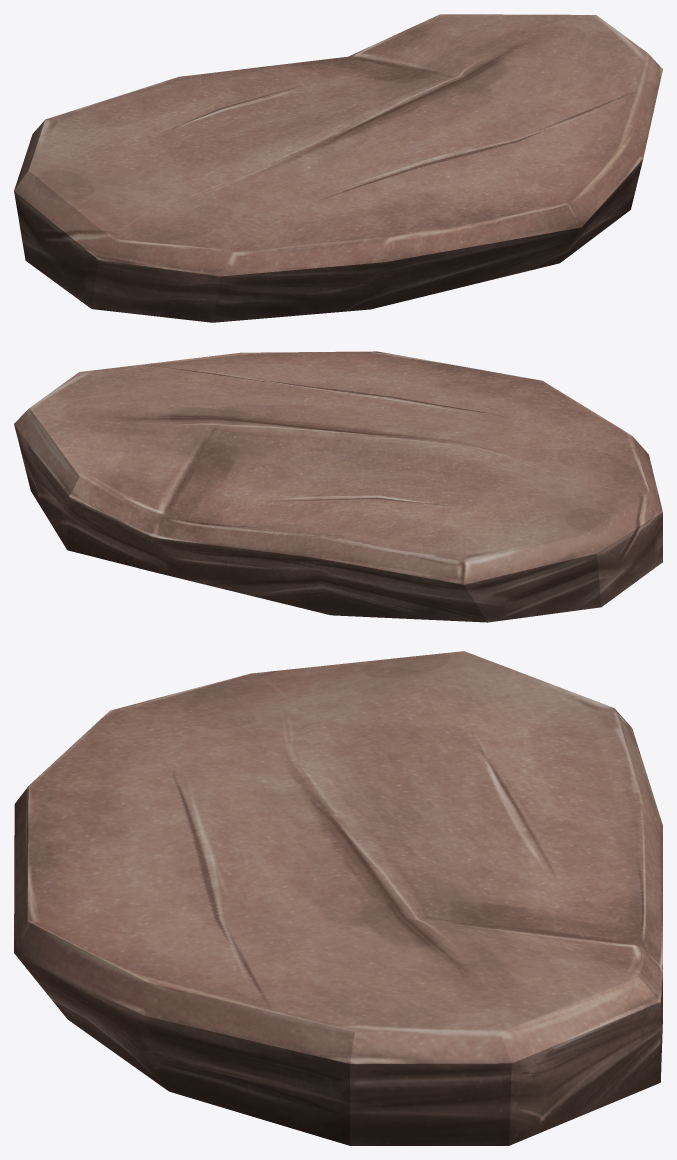
Rendered from SHARP_ROCK_(A).fbx.
3 views of the same model, one above another, from view 1: azimuth 30°, elevation 25°; view 2: azimuth 150°, elevation 25°; view 3: azimuth 270°, elevation 25° (orthographic). The views are drawn at different scales.
Parts seen in each view (by area): view 1: pCube1; view 2: pCube1; view 3: pCube1.
Part boxes in pixels (x1,y1,x2,y2): pCube1: [14, 14, 662, 322]; pCube1: [14, 351, 662, 622]; pCube1: [14, 651, 662, 1145].
Bounding box in the file's own units: 498 × 69.66 × 337.
